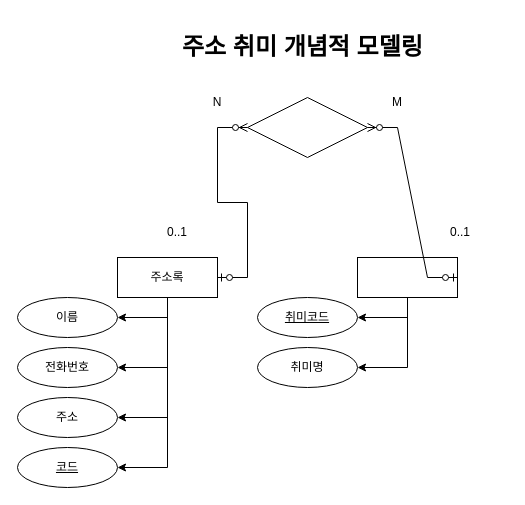
Some shapes in this 525 by 505 pixel diagram are drawn without their labels. Here are the shapes that lost their labels. From the top down, the box of each, then its label:
(246, 96, 368, 158): 주소취미
(356, 256, 458, 298): 취미정보
